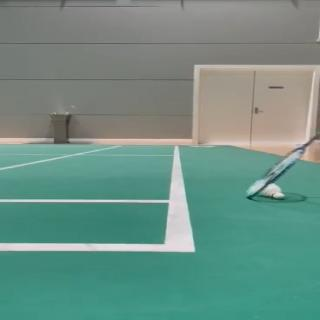Shuttle: (259, 183, 285, 199)
